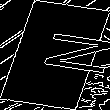N_W: (11, 30, 99, 80)
